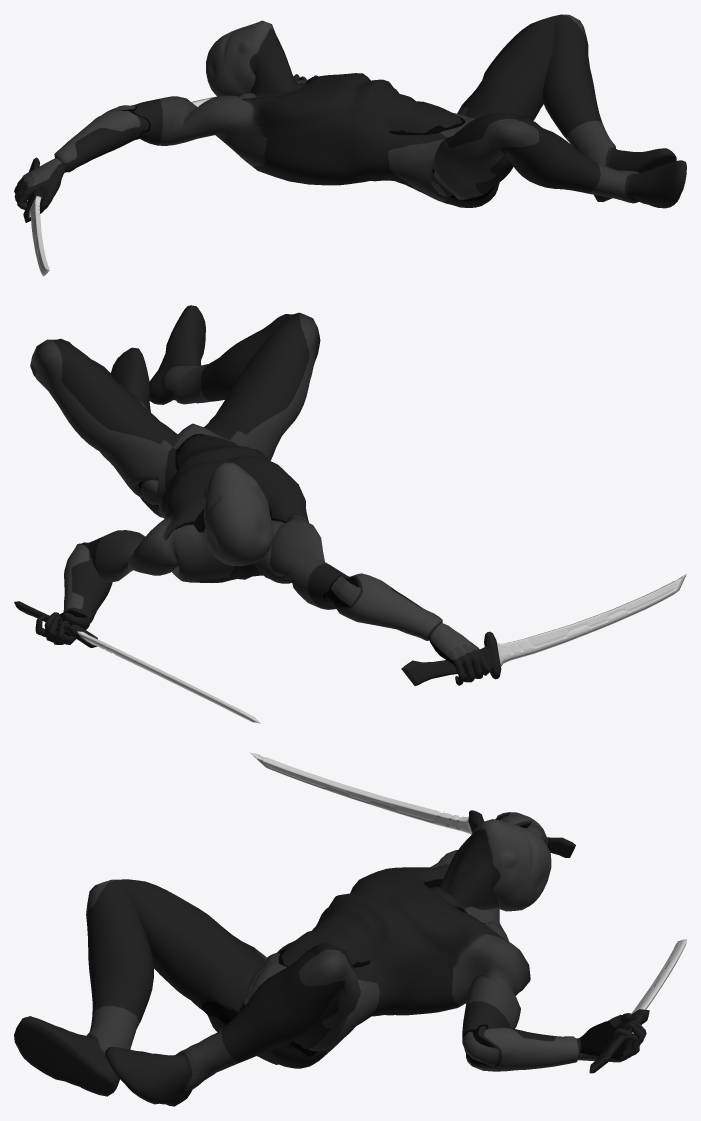
3 renders of one model, top to bottom at view 1: azimuth 30°, elevation 25°; view 2: azimuth 150°, elevation 25°; view 3: azimuth 270°, elevation 25°, orthographic. The views are drawn at different scales.
Parts seen in each view (by area): view 1: Cyborg_Ninja_Killer, Sword_l001; view 2: Cyborg_Ninja_Killer, Sword_l001, Sword_l; view 3: Cyborg_Ninja_Killer, Sword_l001, Sword_l.
Part boxes in pixels (left/top/right/bottom): Cyborg_Ninja_Killer: left=14, top=14, right=686, bottom=213; Sword_l001: left=23, top=157, right=49, bottom=276; Cyborg_Ninja_Killer: left=30, top=305, right=490, bottom=685; Sword_l001: left=401, top=574, right=686, bottom=685; Sword_l: left=14, top=601, right=260, bottom=723; Cyborg_Ninja_Killer: left=14, top=812, right=646, bottom=1106; Sword_l001: left=249, top=752, right=575, bottom=857; Sword_l: left=589, top=939, right=686, bottom=1073.
Size of the model in its own units: 192 by 50.43 by 162.
2 materials, 2 textured.
